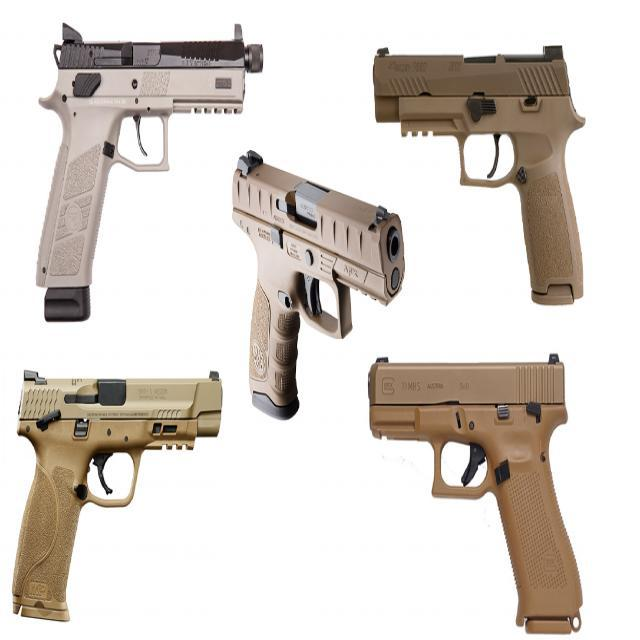pistol: (25, 10, 275, 322), (366, 30, 601, 315), (368, 346, 587, 640), (9, 359, 231, 626), (219, 146, 413, 427)
